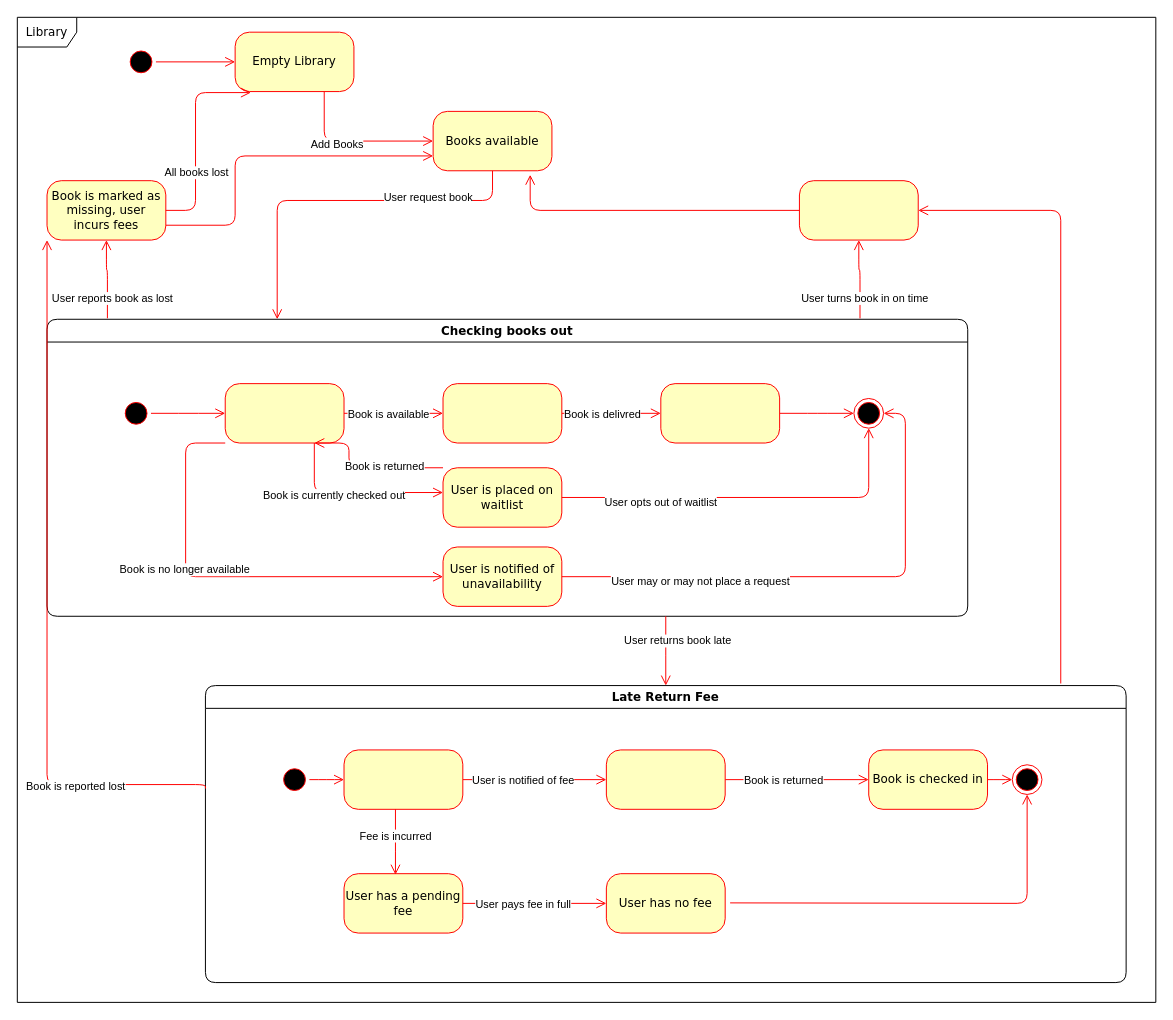
Image size: 1173x1020. Some labels were removed from this diagram. The shapes that lost their labels are listed below. From the top down, each one's box as (x1, y1, x2, y2) in pixels, then its label:
(798, 180, 918, 240): Books are checked in
(224, 383, 344, 443): Book is checked for availability
(442, 383, 562, 443): Book is checked out
(660, 383, 780, 443): Book is given
(343, 749, 463, 809): Book is not checked in by due date
(605, 749, 725, 809): Book is marked as overdue
